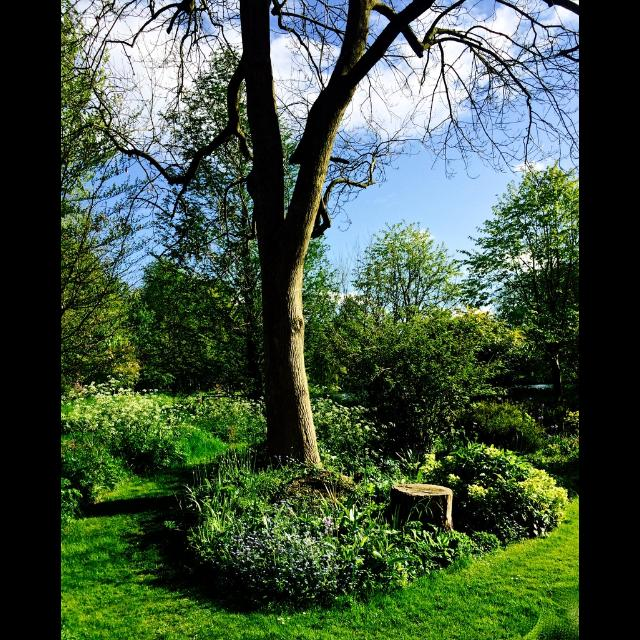Flower: (67, 376, 169, 434)
